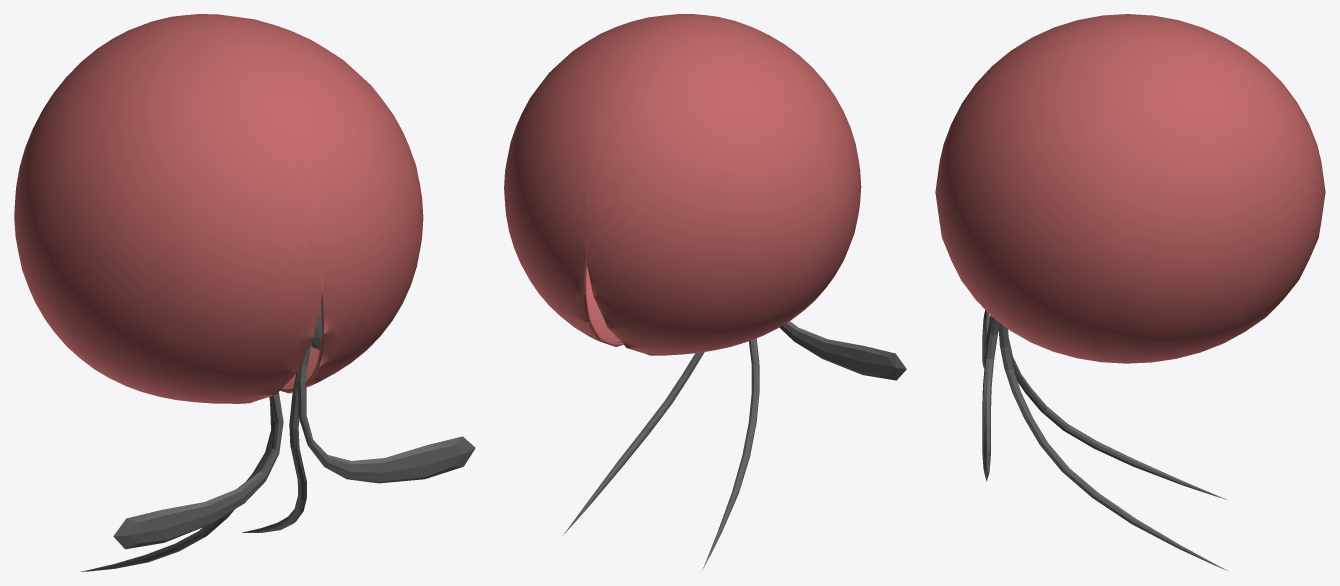
File: giganto.fbx
The picture shows the model from 3 angles, left to right: view 1: azimuth 30°, elevation 25°; view 2: azimuth 150°, elevation 25°; view 3: azimuth 270°, elevation 25°; orthographic projection. The views are drawn at different scales.
Parts seen in each view (by area): view 1: Empty_Mesh; view 2: Empty_Mesh; view 3: Empty_Mesh.
Boxes of the visible parts, x1,y1,x2,y2 form: Empty_Mesh: (14,14,475,571); Empty_Mesh: (504,14,906,569); Empty_Mesh: (935,14,1325,570).
Size of the model in its own units: 26628 by 39160 by 27402.
